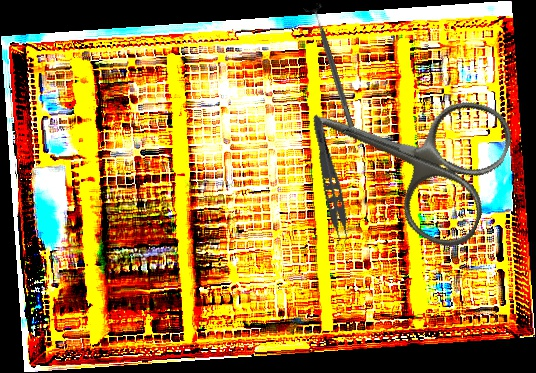Fixation Ring: (302, 1, 361, 131)
Iris Scissors: (286, 47, 521, 257)
Tissue Forceps: (300, 112, 356, 253)
